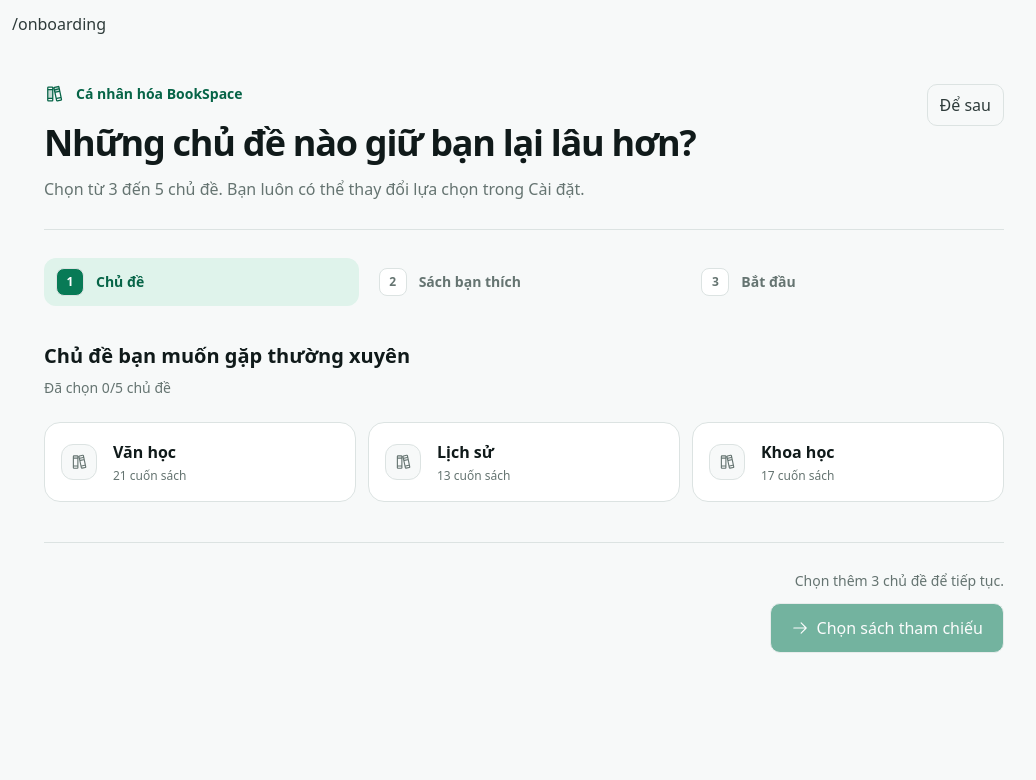
personalized onboarding flow › saves a partial draft before skip and rejects an external-looking return path
Click the button "Văn học 21 cuốn sách": (79, 462) [44,422,356,502]
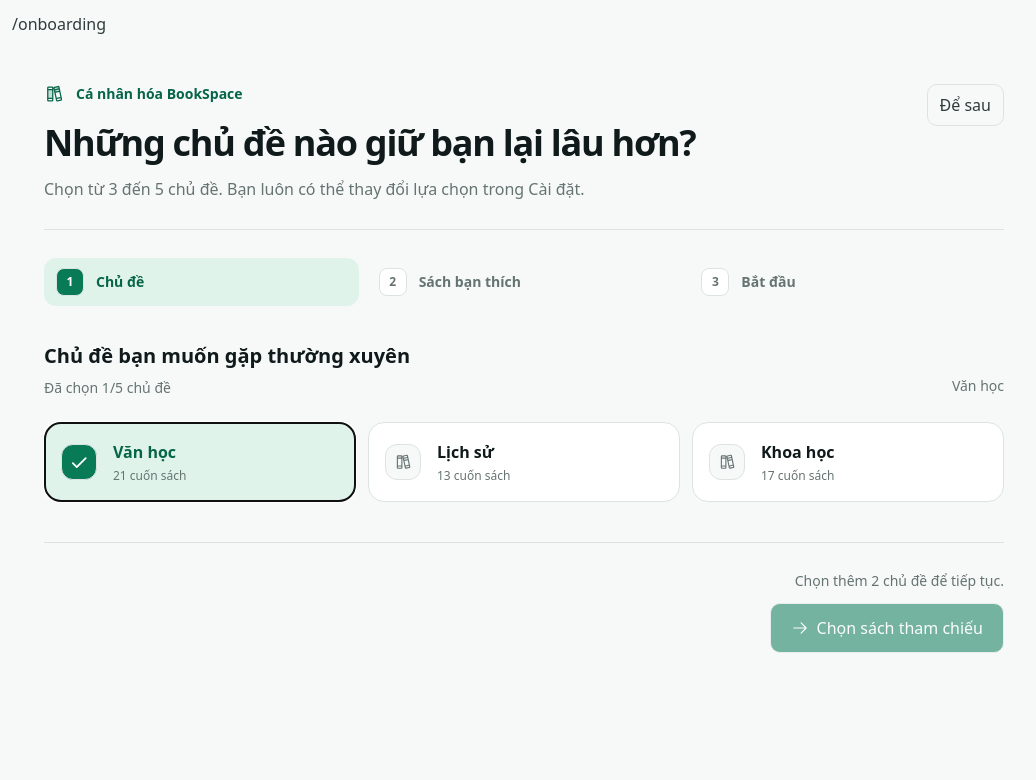
Click the button "Để sau": (965, 105) [927,84,1004,126]
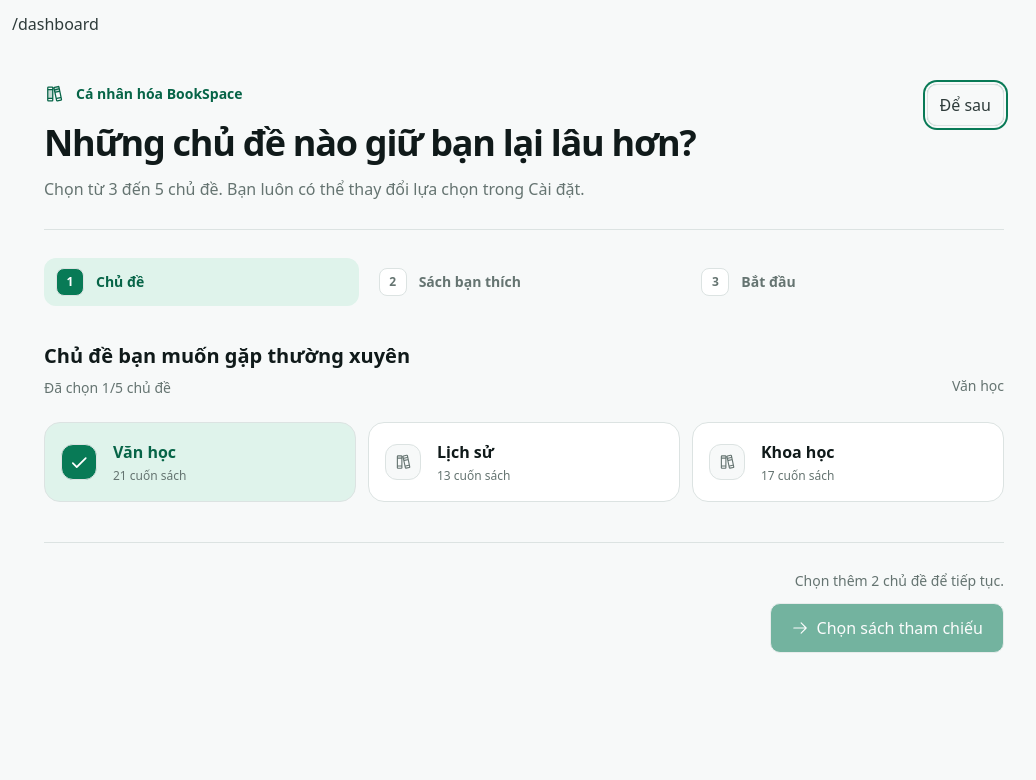
Result: the text with test id "location" reads "/dashboard" at [12,13,99,35]
